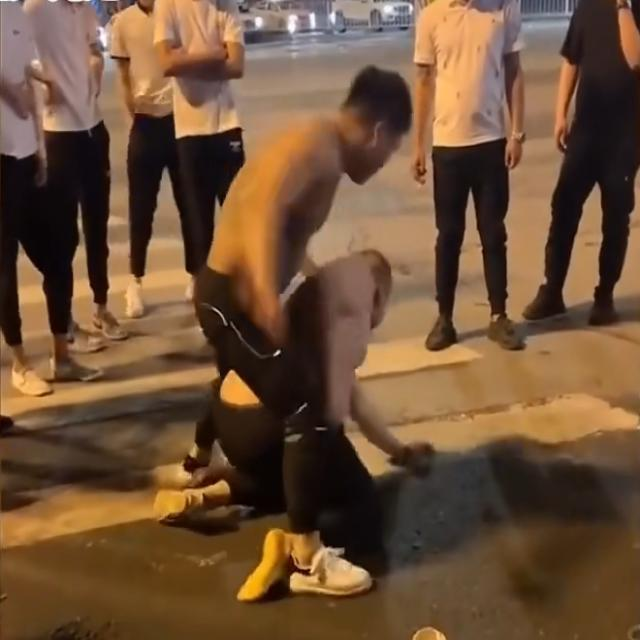fight: (206, 64, 425, 512)
nofight: (402, 1, 556, 363)
